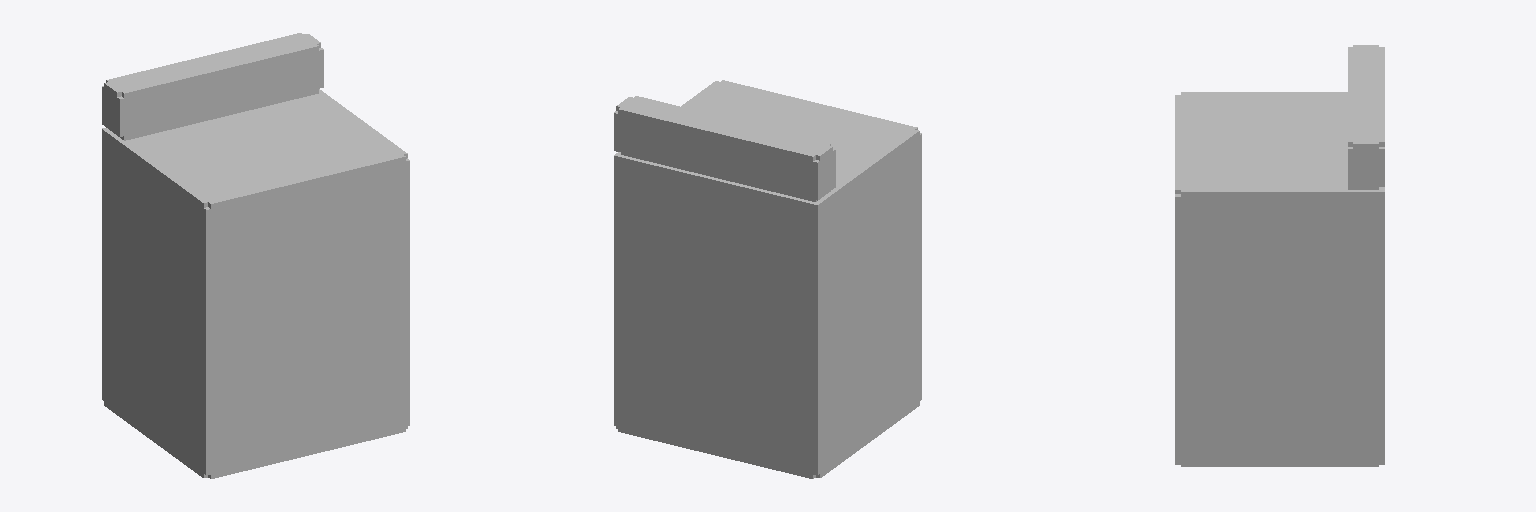
File: washingmachine.obj
3 views of the same model, side by side, from view 1: azimuth 30°, elevation 25°; view 2: azimuth 150°, elevation 25°; view 3: azimuth 270°, elevation 25° (orthographic).
Visible parts, largest first — view 1: object 1; view 2: object 1; view 3: object 1.
Boxes of the visible parts, x1=… form: object 1: x1=102, y1=33, x2=409, y2=478; object 1: x1=614, y1=80, x2=921, y2=478; object 1: x1=1175, y1=45, x2=1384, y2=466.
Size of the model in its own units: 4.5 by 6.8 by 4.